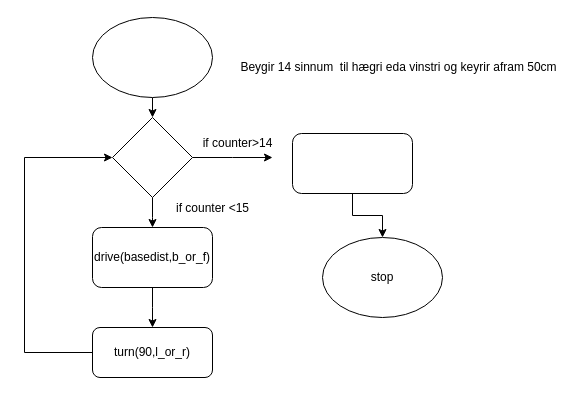
The diagram is 581 pixels wide and 395 high, and some of its shapes have lost their labels. The shapes that lost their labels are listed below. From the top down, each one's centre as x and y in pixels, then its label:
point 152,57: Byrja
point 352,163: drive(b_or_f,basedist)
